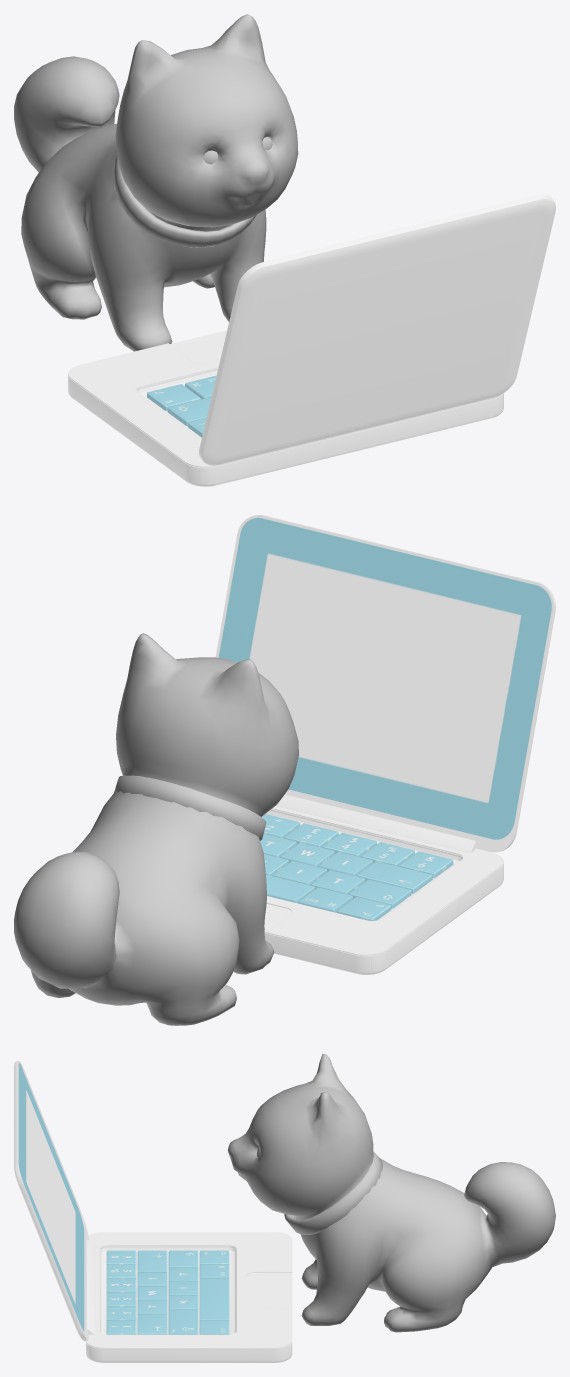
The model's file is shiba.gltf.
3 renders of one model, top to bottom at view 1: azimuth 30°, elevation 25°; view 2: azimuth 150°, elevation 25°; view 3: azimuth 270°, elevation 25°, orthographic. The views are drawn at different scales.
Parts seen in each view (by area): view 1: MacBook_1, Box002, Group18985; view 2: MacBook_1, Box002, Group18985; view 3: Box002, MacBook_1, Group18985.
Boxes of the visible parts, box(x1,y1,x2,y2) form: MacBook_1: box(68, 194, 555, 486); Box002: box(14, 14, 298, 351); Group18985: box(113, 154, 256, 247); MacBook_1: box(215, 515, 555, 974); Box002: box(14, 633, 298, 1025); Group18985: box(114, 775, 266, 840); Box002: box(227, 1054, 555, 1332); MacBook_1: box(14, 1060, 292, 1362); Group18985: box(284, 1151, 382, 1234).
Size of the model in its own units: 1.48 by 1.39 by 2.93.
